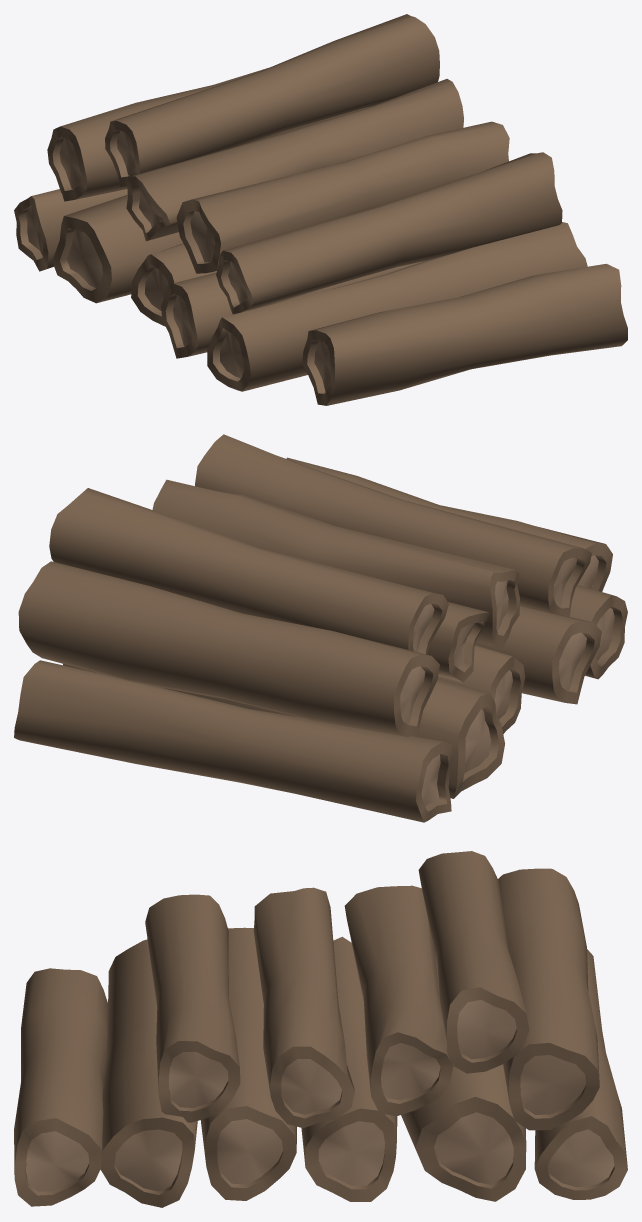
The model's file is P_Woodlog_03_LD.fbx.
3 renders of one model, top to bottom at view 1: azimuth 30°, elevation 25°; view 2: azimuth 150°, elevation 25°; view 3: azimuth 270°, elevation 25°, orthographic. The views are drawn at different scales.
Parts seen in each view (by area): view 1: P_Woodlog_03; view 2: P_Woodlog_03; view 3: P_Woodlog_03.
Part boxes in pixels (bbox=[...]): P_Woodlog_03: bbox=[14, 14, 627, 405]; P_Woodlog_03: bbox=[14, 434, 627, 822]; P_Woodlog_03: bbox=[14, 851, 627, 1207].
Bounding box in the file's own units: 78.82 × 39.14 × 99.5.
